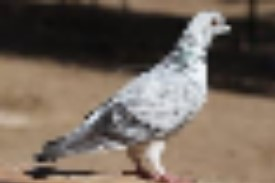pigeon: (29, 8, 239, 183)
